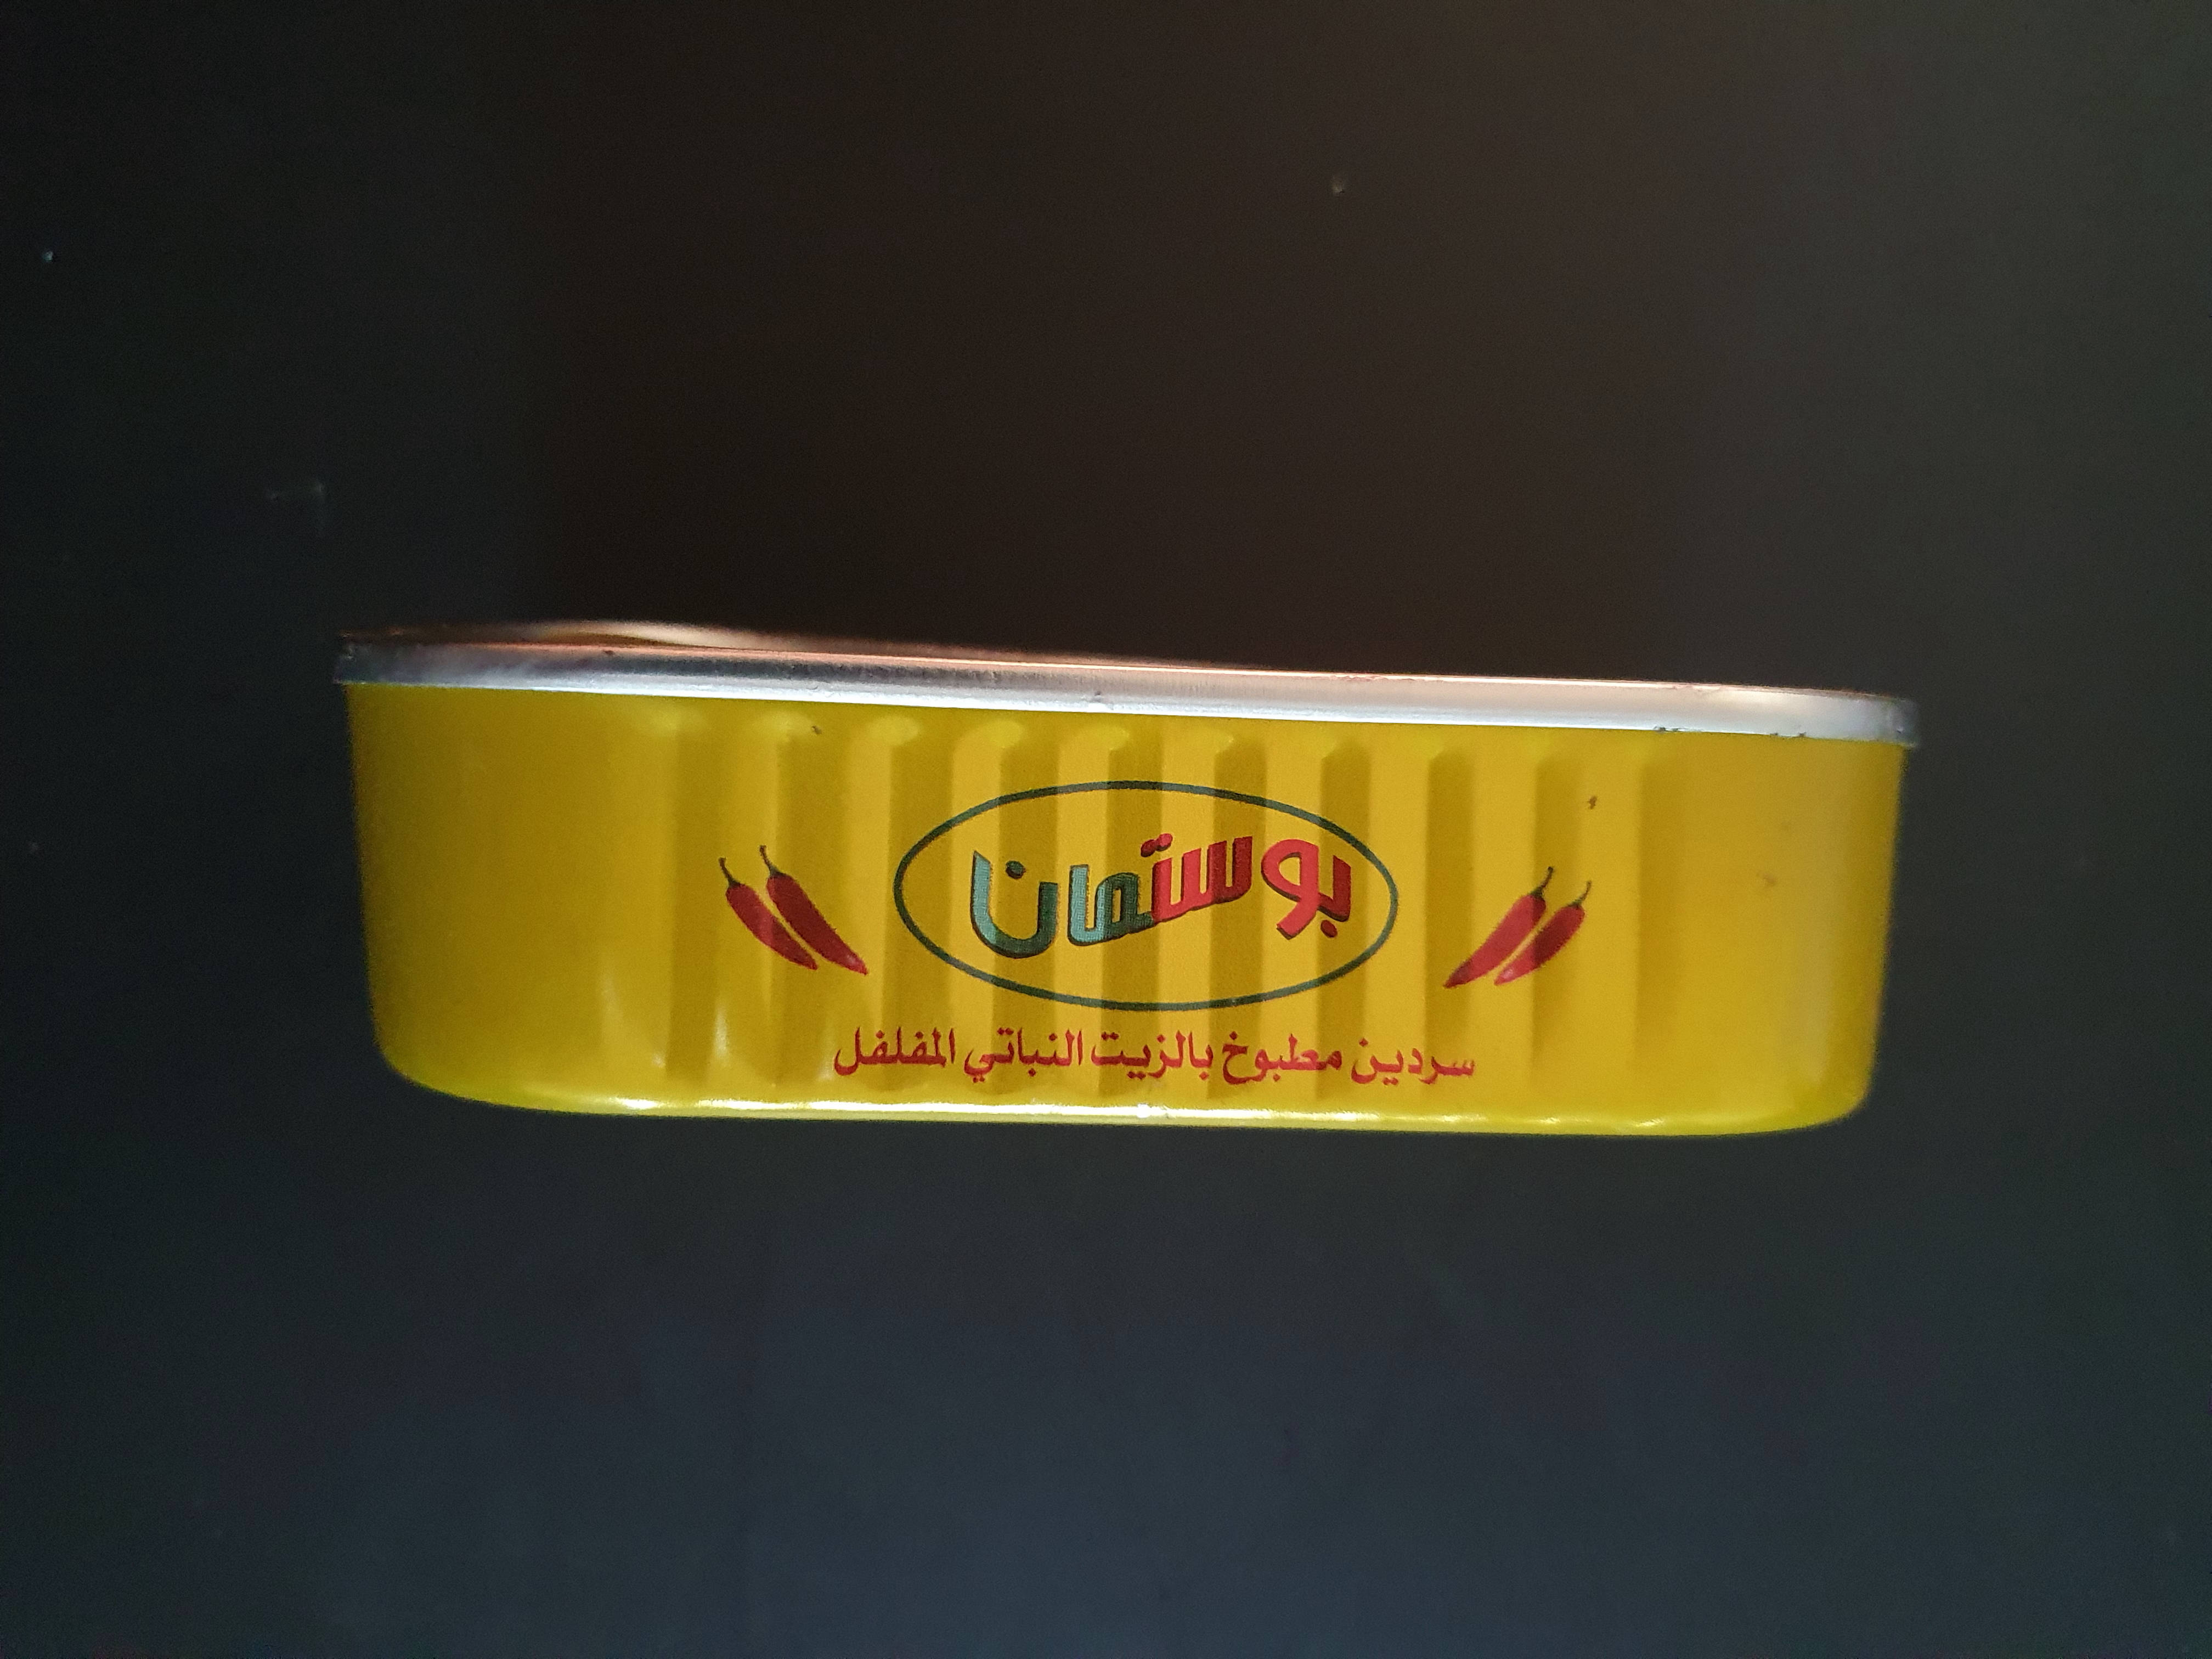metal: (284, 521, 1972, 1227)
